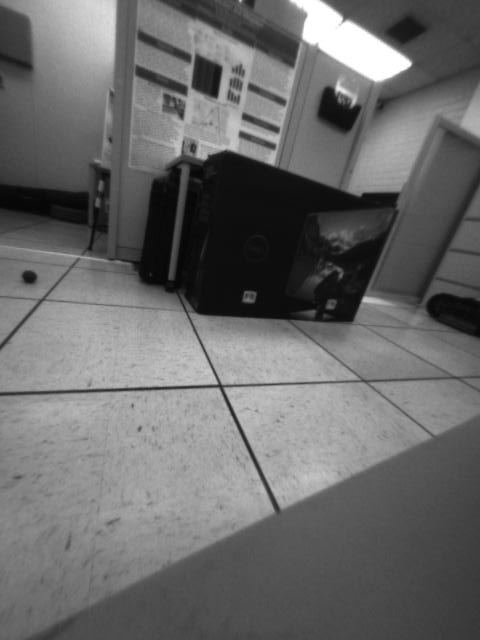dogtoy: (16, 264, 45, 290)
